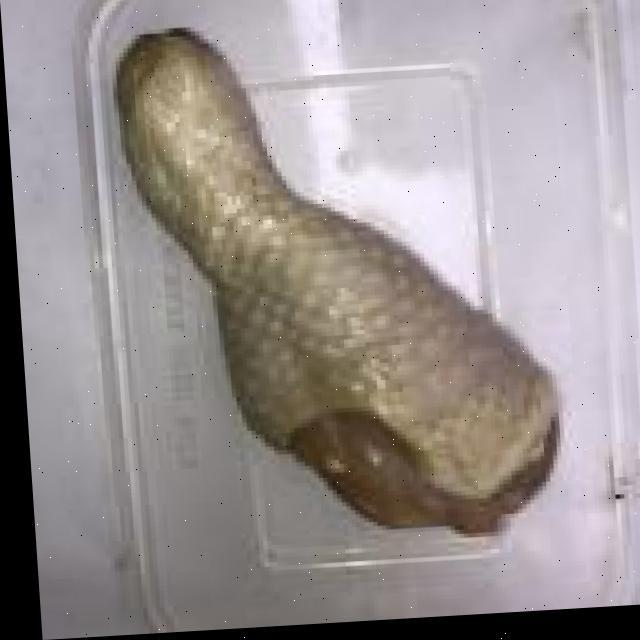leg: (112, 11, 558, 546)
